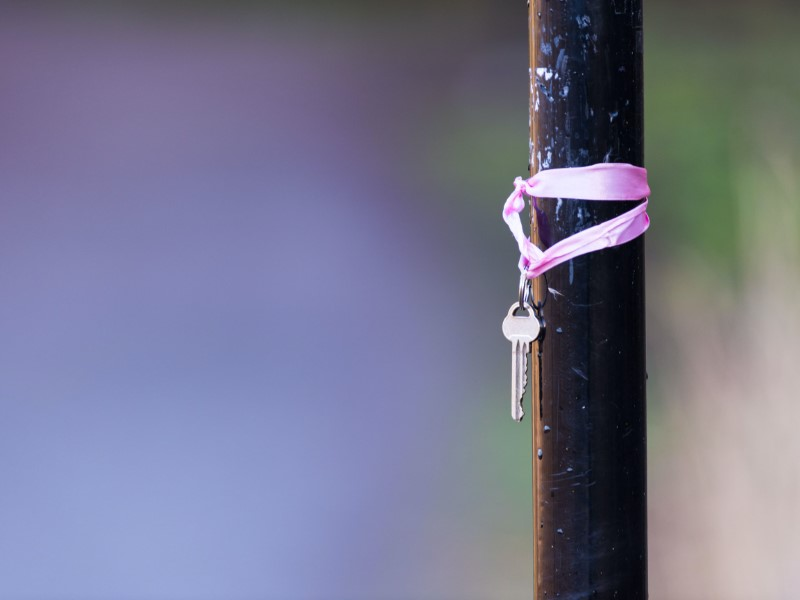key: (498, 277, 542, 422)
